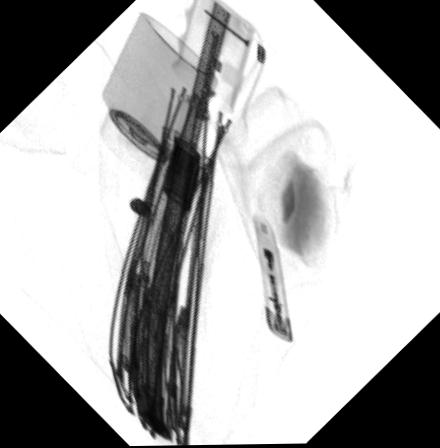Lighter: (251, 214, 291, 341)
Sprayer: (94, 11, 220, 184)
